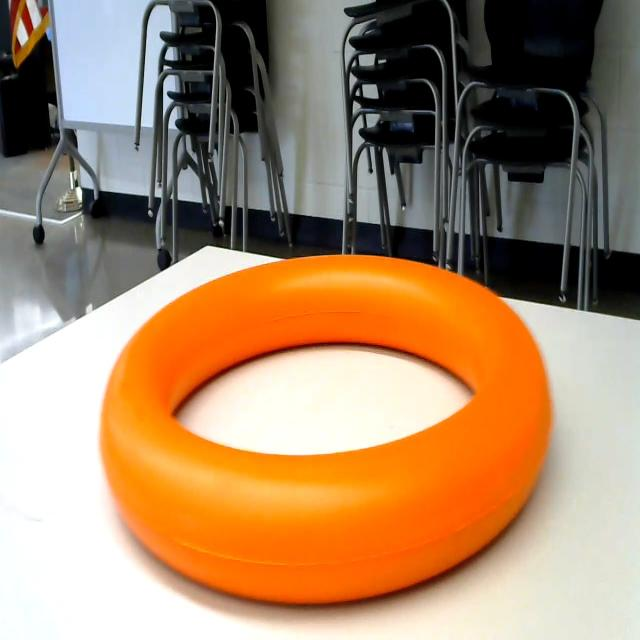note: (84, 205, 568, 616)
